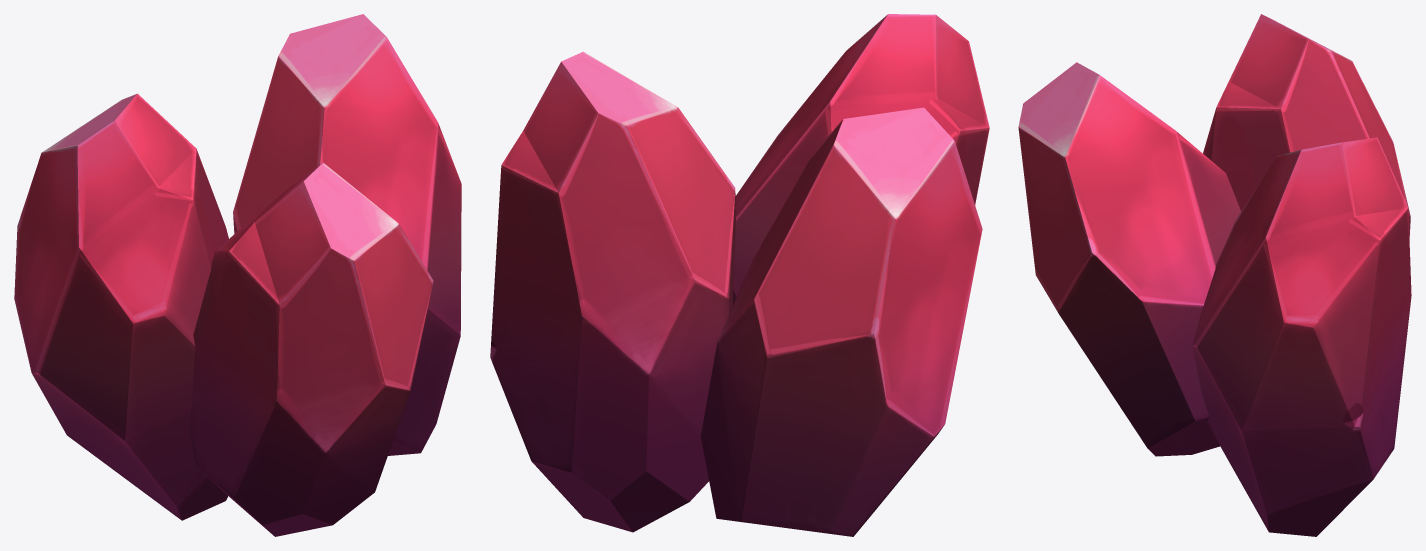
Rendered from crystal_comb.fbx.
3 renders of one model, left to right at view 1: azimuth 30°, elevation 25°; view 2: azimuth 150°, elevation 25°; view 3: azimuth 270°, elevation 25°, orthographic. The views are drawn at different scales.
Parts seen in each view (by area): view 1: edf1d63445e4518a7abd1997fd0c9ae:Mesh; view 2: edf1d63445e4518a7abd1997fd0c9ae:Mesh; view 3: edf1d63445e4518a7abd1997fd0c9ae:Mesh.
Part boxes in pixels (x1,y1,x2,y2): edf1d63445e4518a7abd1997fd0c9ae:Mesh: (14, 14, 461, 536); edf1d63445e4518a7abd1997fd0c9ae:Mesh: (490, 14, 989, 536); edf1d63445e4518a7abd1997fd0c9ae:Mesh: (1018, 14, 1411, 536).
Size of the model in its own units: 3.2 by 3.22 by 2.88.
1 material, 1 textured.
